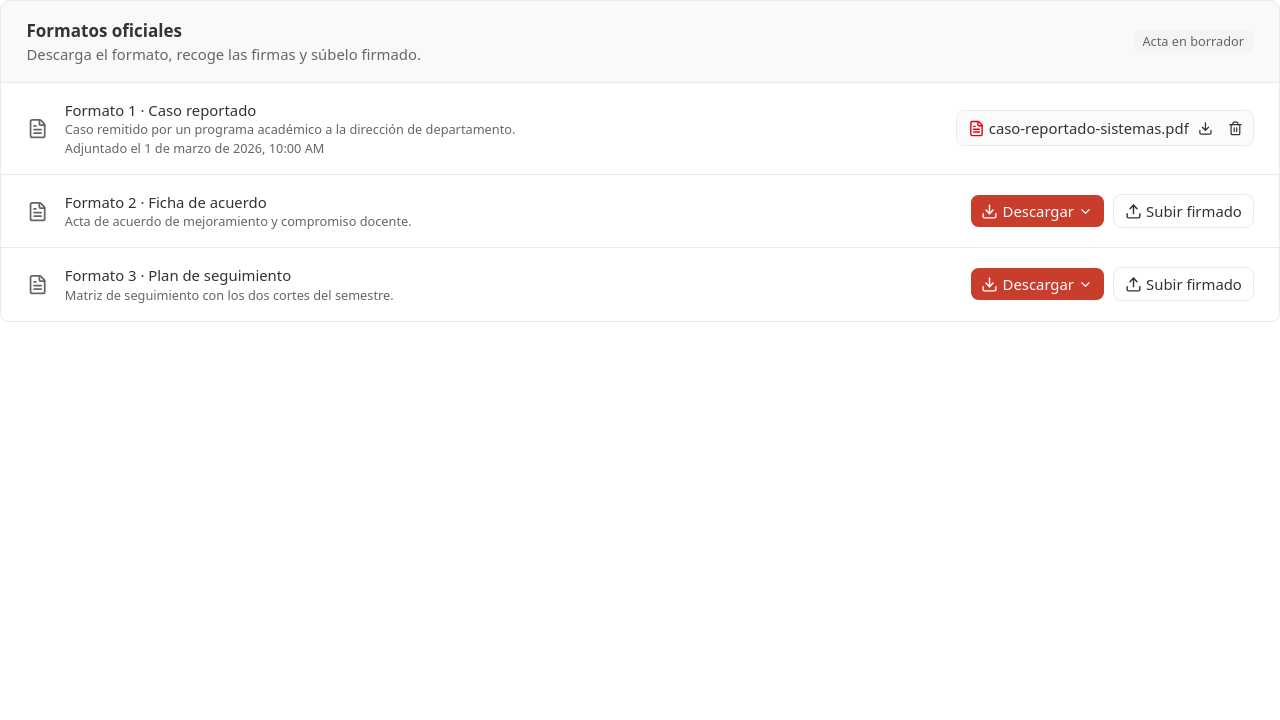
PlanDocuments › el Formato 1 · caso reportado › al quitarlo no amenaza con pedir otra firma
Click the button named "Eliminar caso-reportado-sistemas.pdf" at {"x": 1236, "y": 128}, box [1223, 116, 1248, 141]
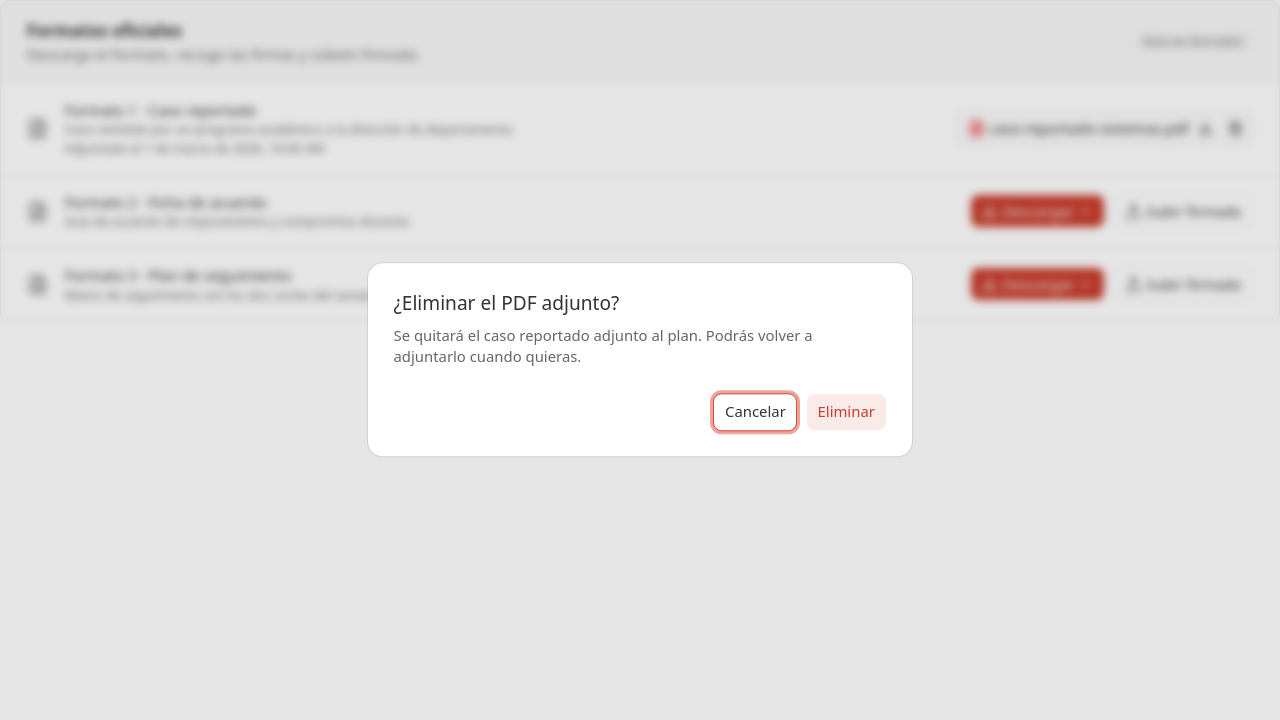
Check: the heading "¿Eliminar el PDF adjunto?" is shown, box [394, 289, 619, 319]
Check: the text "Podrás volver a adjuntarlo" is shown, box [394, 325, 813, 366]
